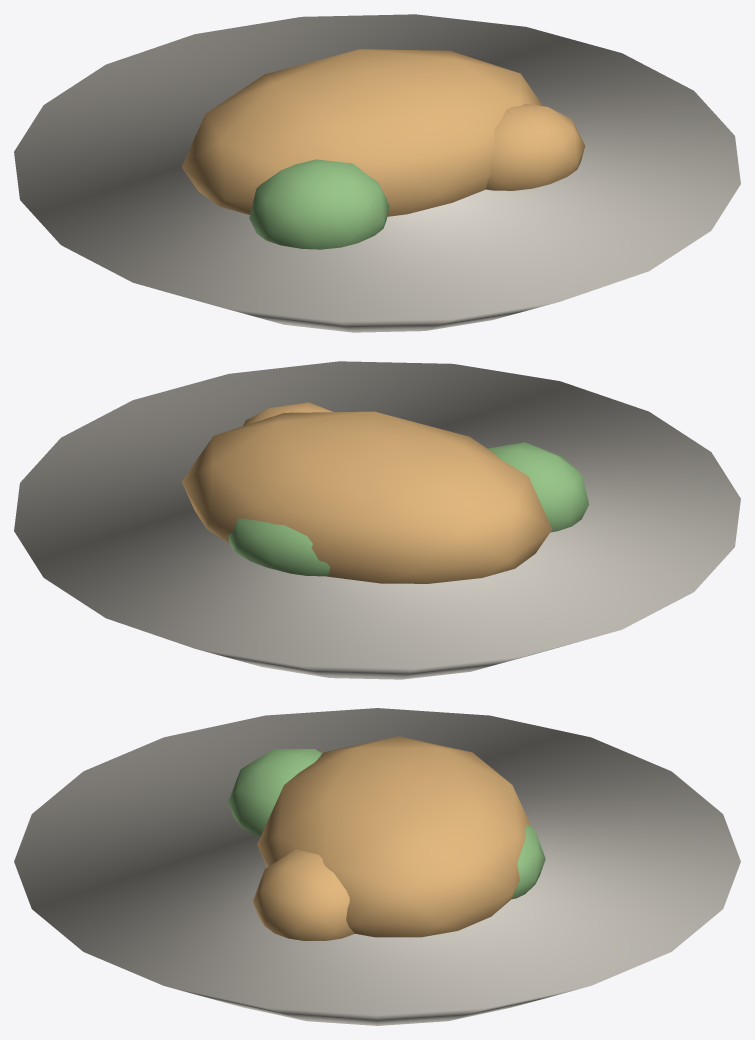
File: plato_comida.glb
3 views of the same model, one above another, from view 1: azimuth 30°, elevation 25°; view 2: azimuth 150°, elevation 25°; view 3: azimuth 270°, elevation 25° (orthographic).
Visible parts, largest first — view 1: PlatoComida; view 2: PlatoComida; view 3: PlatoComida.
Boxes of the visible parts, x1,y1,x2,y2 form: PlatoComida: (14, 14, 740, 332); PlatoComida: (14, 361, 740, 679); PlatoComida: (14, 708, 740, 1025).
Size of the model in its own units: 0.35 by 0.083 by 0.35.
